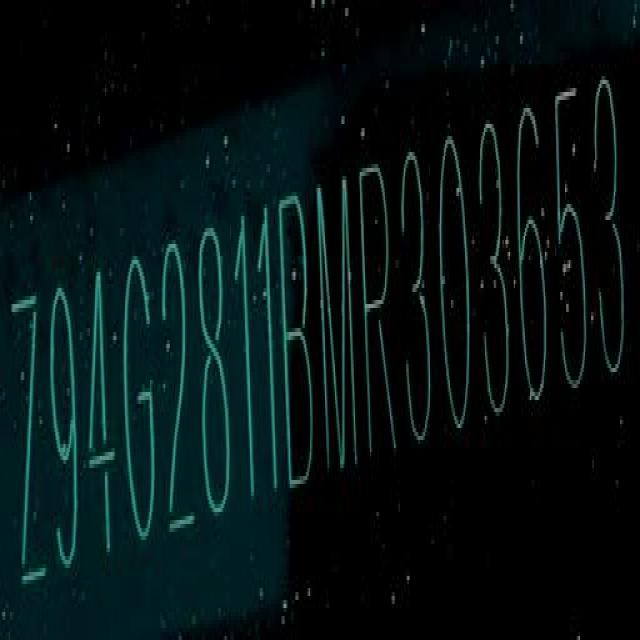0: (440, 138, 471, 441)
1: (237, 211, 255, 510), (260, 200, 277, 500)
2: (158, 240, 198, 538)
3: (598, 68, 627, 392), (402, 147, 433, 449), (481, 117, 509, 423)
4: (88, 272, 119, 566)
5: (556, 72, 586, 401)
6: (511, 104, 550, 407)
8: (201, 221, 234, 522)
9: (48, 289, 84, 570)
B: (276, 187, 314, 490)
G: (119, 250, 159, 540)
N: (316, 172, 360, 476)
R: (355, 160, 401, 465)
Z: (11, 295, 47, 591)
